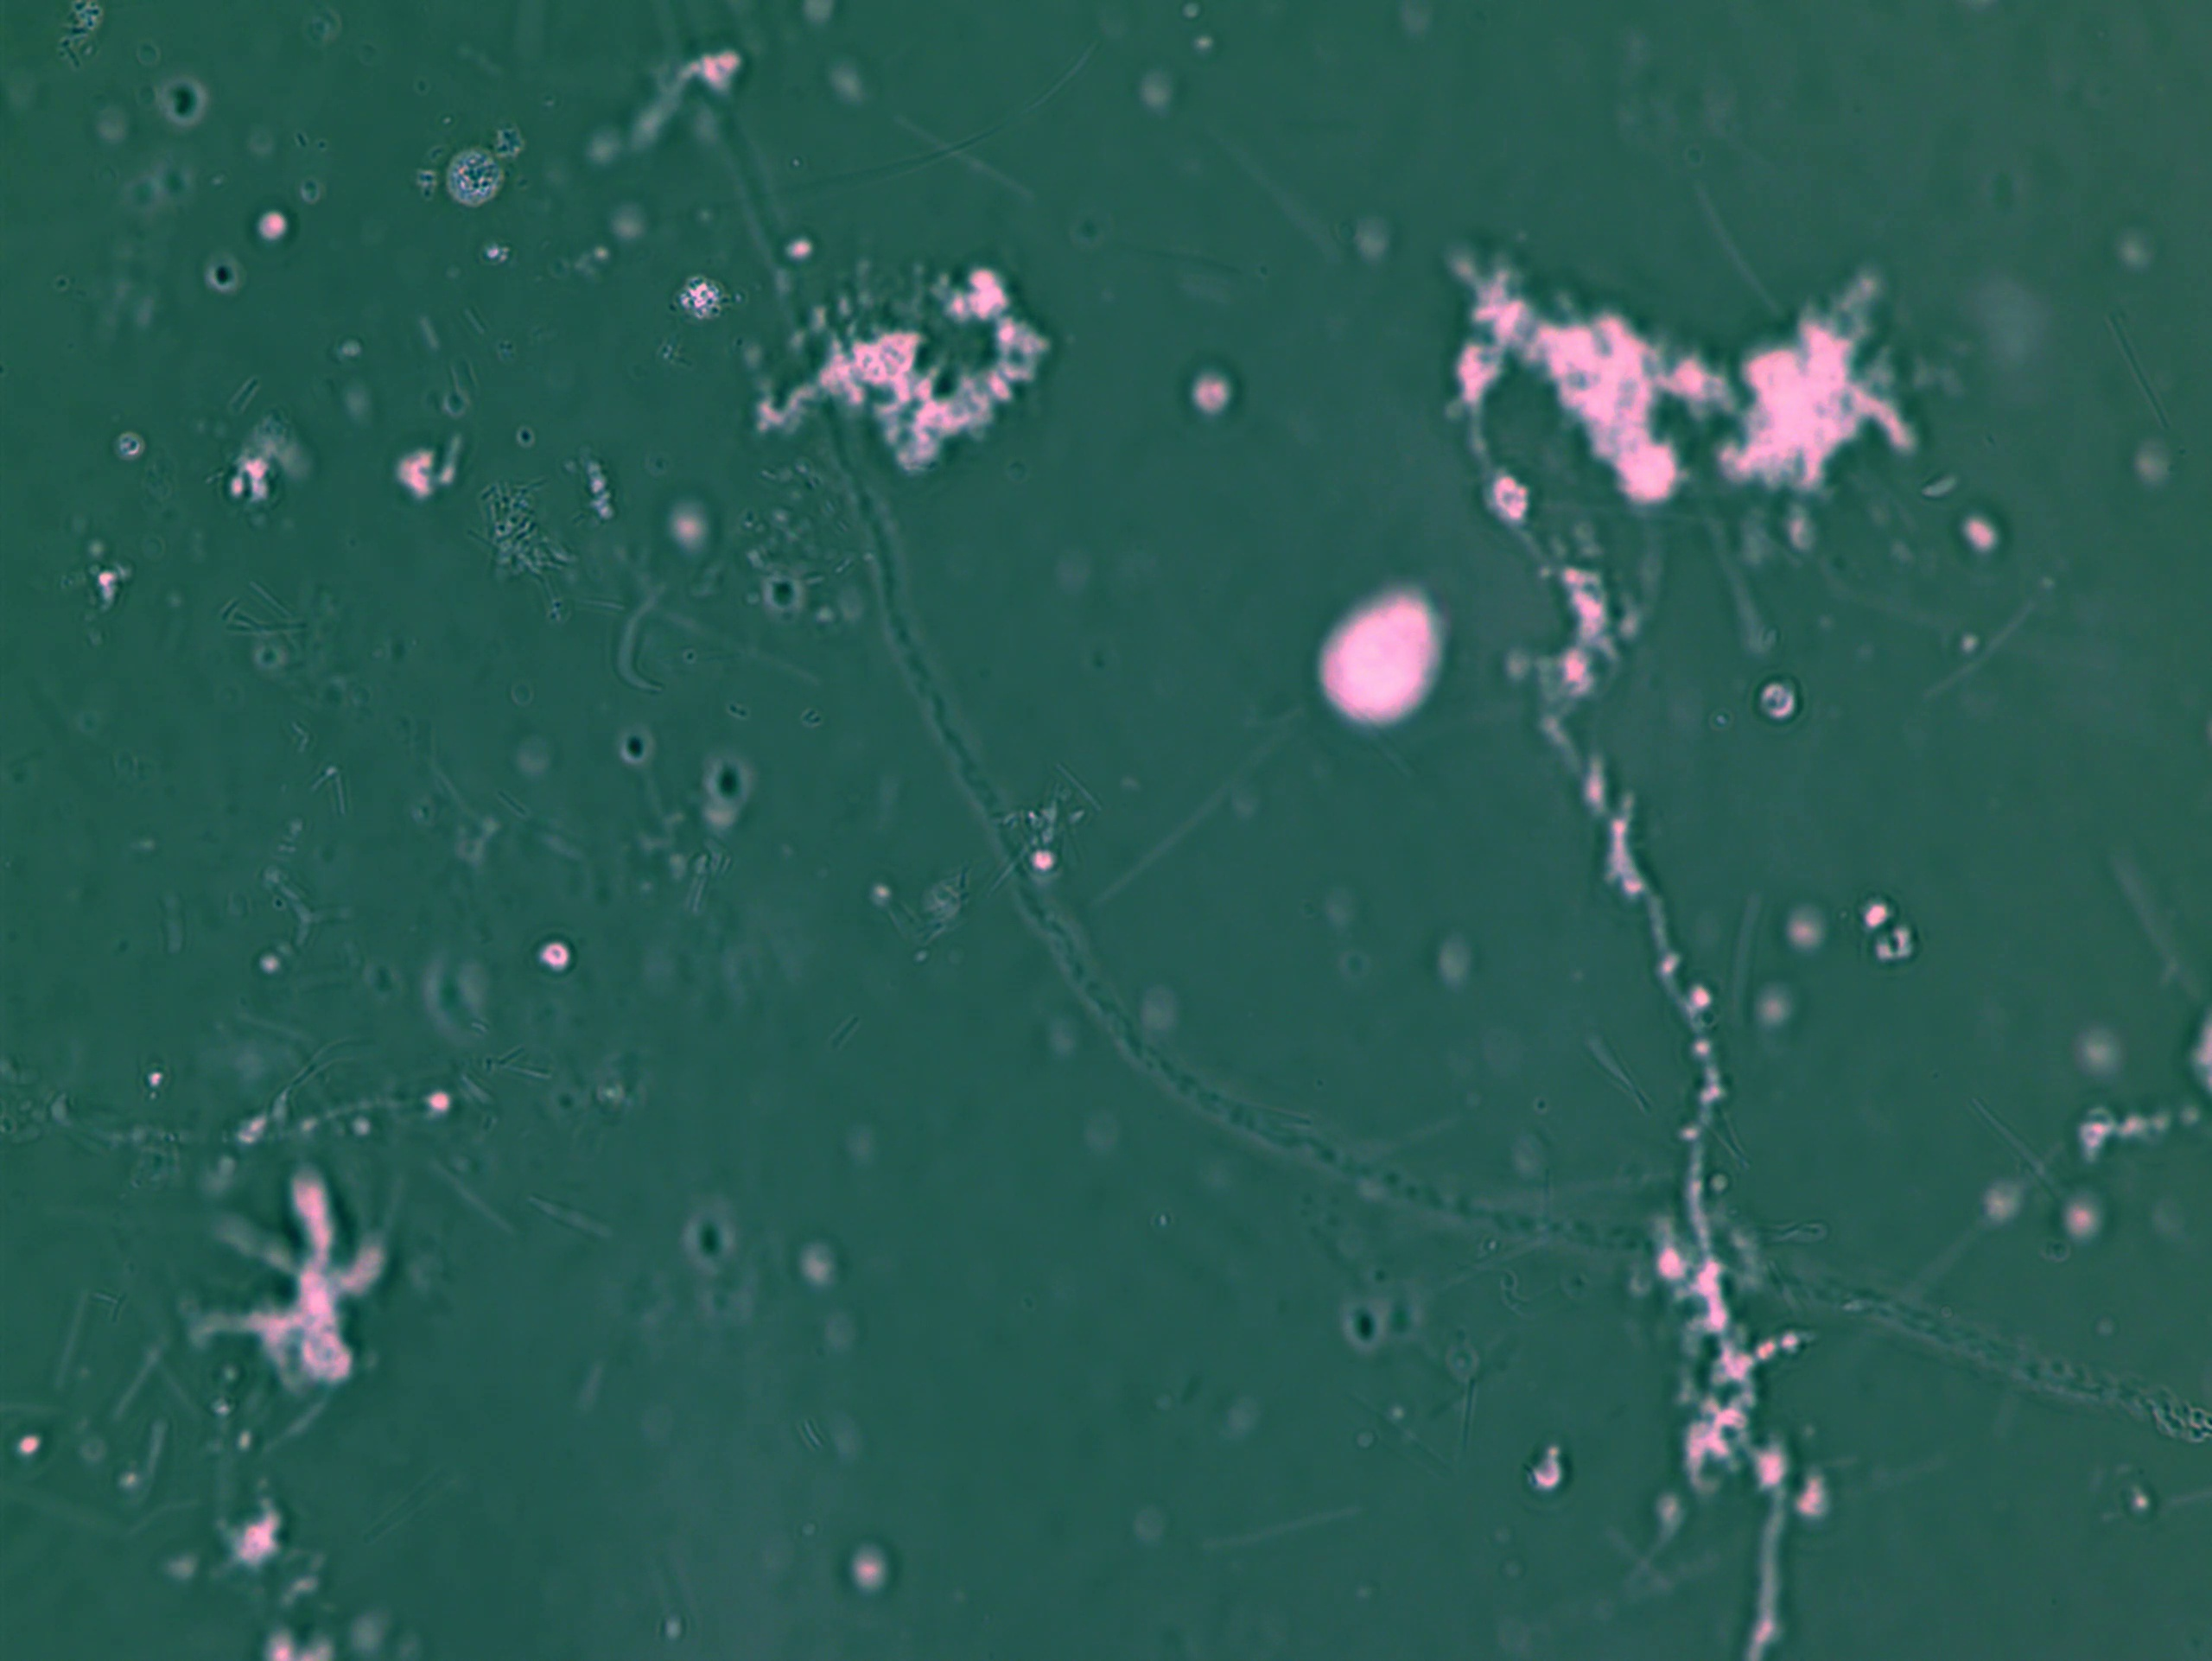depth:60: (1303, 546, 1485, 740)
